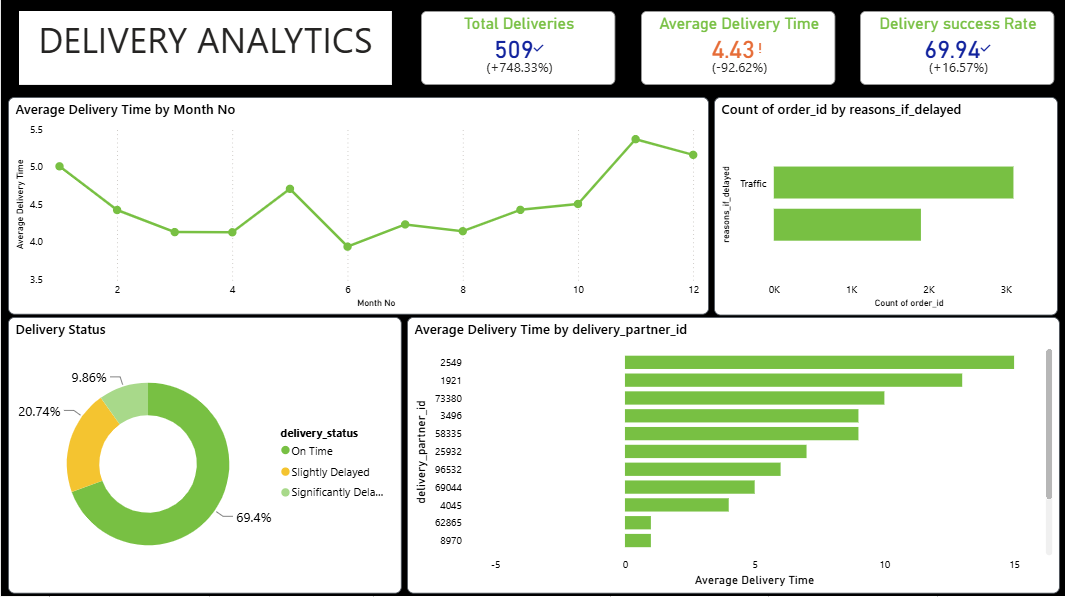

The page's visual inventory and layout, read from the dashboard file:
{"tool":"powerbi","page":{"name":"DELIVERY ANALYTICS","canvas":[1280,720],"ordinal":3},"visuals":[{"type":"lineChart","fields":{"Category":["Dim Calendar.Month No"],"Y":["delivery_performance_clean.Average Delivery Time"]},"box":[8.4,119.2,844,262.5],"z":0},{"type":"clusteredBarChart","fields":{"Category":["delivery_performance_clean.reasons_if_delayed"],"Y":["CountNonNull(orders_clean.order_id)"]},"box":[858.7,119.2,414,262.9],"z":1000},{"type":"clusteredBarChart","fields":{"Category":["delivery_performance_clean.delivery_partner_id"],"Y":["delivery_performance_clean.Average Delivery Time"]},"box":[488.9,384.5,786.2,332.9],"z":2000},{"type":"kpi","title":"Total Deliveries","fields":{"Indicator":["delivery_performance_clean.Total Deliveries"],"TrendLine":["Date Table.Month Name"],"Goal":["CountNonNull(Dim Calendar.Year)"]},"box":[505.2,15.9,234.3,89.1],"z":3000},{"type":"donutChart","title":"Delivery Status","fields":{"Category":["orders_clean.delivery_status"],"Y":["CountNonNull(orders_clean.order_id)"]},"box":[8.6,384.5,474.2,332.9],"z":4000},{"type":"kpi","title":"Average Delivery Time","fields":{"Indicator":["delivery_performance_clean.Average Delivery Time"],"TrendLine":["Date Table.Month Name"],"Goal":["CountNonNull(Dim Calendar.Year)"]},"box":[770,15.9,234.3,89.1],"z":5000},{"type":"kpi","title":"Delivery success Rate","fields":{"Indicator":["delivery_performance_clean.Delivery Success Rate"],"TrendLine":["Date Table.Month Name"],"Goal":["CountNonNull(Dim Calendar.Year)"]},"box":[1034.8,15.9,234.3,89.1],"z":6000},{"type":"textbox","box":[21.3,16,449.3,89.3],"z":7000}]}

Visuals, with their boxes in screenshot pixels (x1, y1, x2, y2), scaled from the page's 1280x720 canvas onto the 1065x597 screenshot:
lineChart - Dim Calendar.Month No x delivery_performance_clean.Average Delivery Time: bbox=(7, 99, 709, 316)
clusteredBarChart - delivery_performance_clean.reasons_if_delayed x CountNonNull(orders_clean.order_id): bbox=(714, 99, 1059, 317)
clusteredBarChart - delivery_performance_clean.delivery_partner_id x delivery_performance_clean.Average Delivery Time: bbox=(407, 319, 1061, 595)
"Total Deliveries" kpi: bbox=(420, 13, 615, 87)
"Delivery Status" donutChart: bbox=(7, 319, 402, 595)
"Average Delivery Time" kpi: bbox=(641, 13, 836, 87)
"Delivery success Rate" kpi: bbox=(861, 13, 1056, 87)
textbox: bbox=(18, 13, 392, 87)
